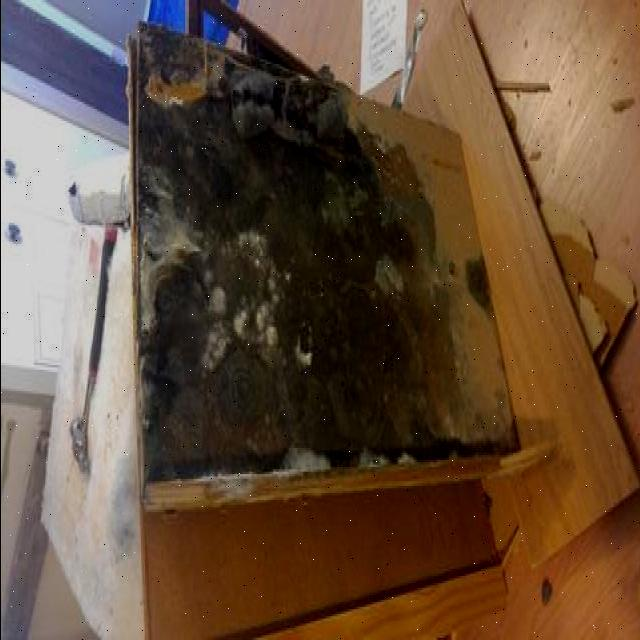dampens: (128, 25, 514, 486)
